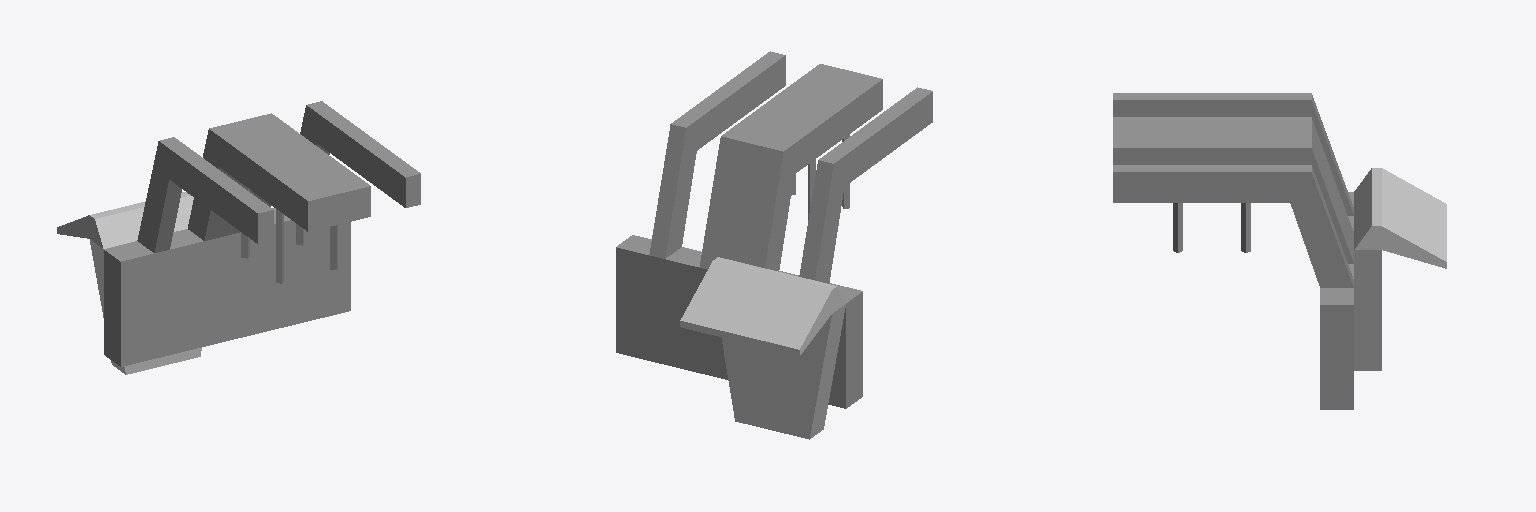
Rendered from appliance_aligner.obj.
The picture shows the model from 3 angles: view 1: azimuth 30°, elevation 25°; view 2: azimuth 150°, elevation 25°; view 3: azimuth 270°, elevation 25°; orthographic projection.
Visible parts, largest first — view 1: Baseplate_pmdl, ScanArm_pmdl.001, MoveArm_pmdl.002, ControlPanel, MoveArmStilts_pmdl.003; view 2: ControlPanel, MoveArm_pmdl.002, ScanArm_pmdl.001, Baseplate_pmdl, MoveArmStilts_pmdl.003; view 3: ScanArm_pmdl.001, MoveArm_pmdl.002, ControlPanel, Baseplate_pmdl, MoveArmStilts_pmdl.003.
Boxes of the visible parts, box(x1,y1,x2,y2) form: Baseplate_pmdl: box(104, 208, 350, 366); ScanArm_pmdl.001: box(137, 101, 420, 252); MoveArm_pmdl.002: box(188, 113, 370, 240); ControlPanel: box(57, 192, 201, 374); MoveArmStilts_pmdl.003: box(241, 183, 337, 283); ControlPanel: box(680, 257, 845, 439); MoveArm_pmdl.002: box(699, 64, 882, 270); ScanArm_pmdl.001: box(649, 51, 932, 283); Baseplate_pmdl: box(616, 235, 862, 408); MoveArmStilts_pmdl.003: box(791, 134, 849, 219); ScanArm_pmdl.001: box(1113, 93, 1353, 287); MoveArm_pmdl.002: box(1113, 117, 1353, 263); ControlPanel: box(1354, 168, 1446, 370); Baseplate_pmdl: box(1320, 192, 1353, 409); MoveArmStilts_pmdl.003: box(1173, 203, 1250, 252).
Bounding box in the file's own units: 0.9377 × 0.9598 × 1.18.